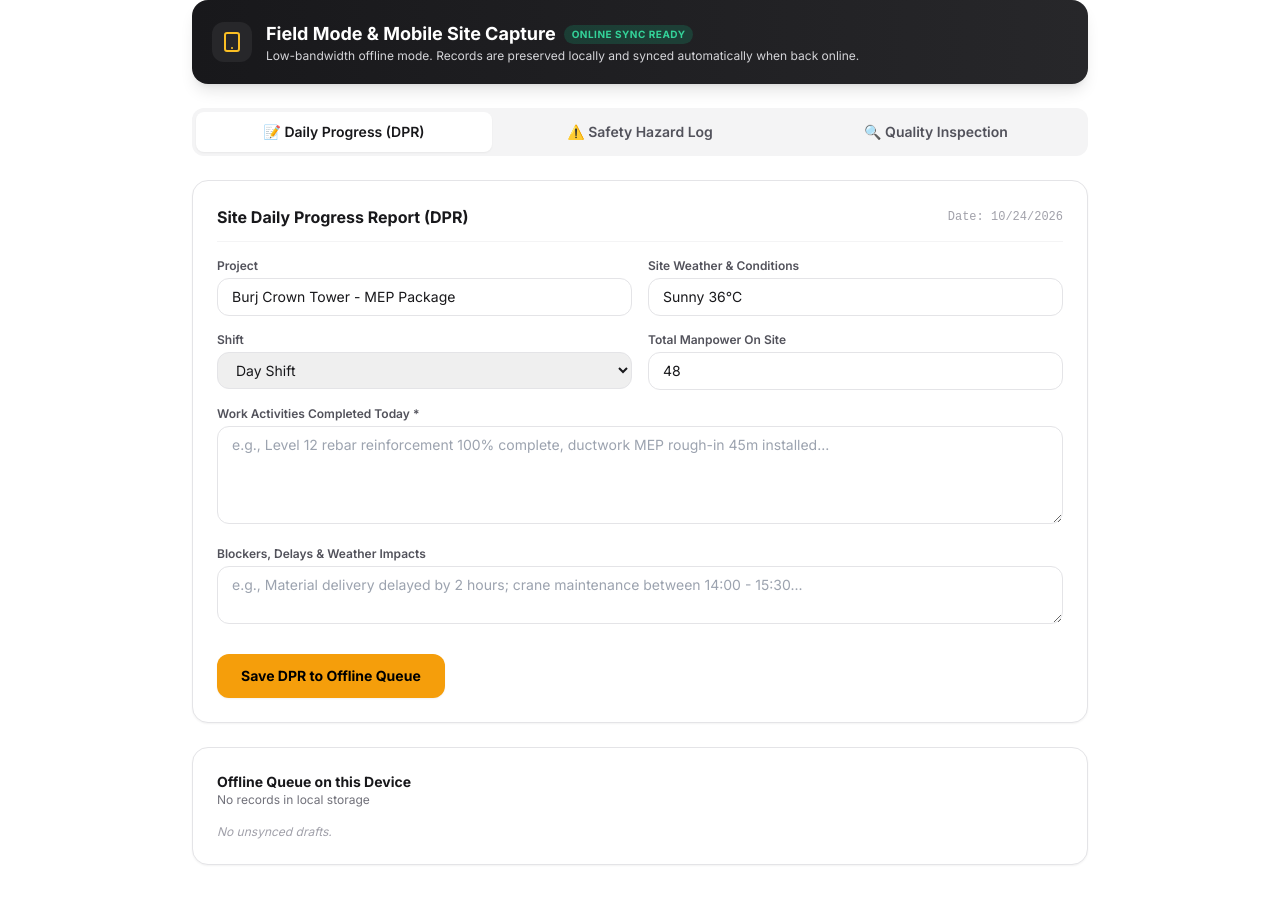
Scenario: Module M37: FieldModePage & Offline Capture UI › switches to Safety Hazard form and saves an observation
Step 1. Click the button "⚠️ Safety Hazard Log" → point(640, 132), box [492,112,788,152]
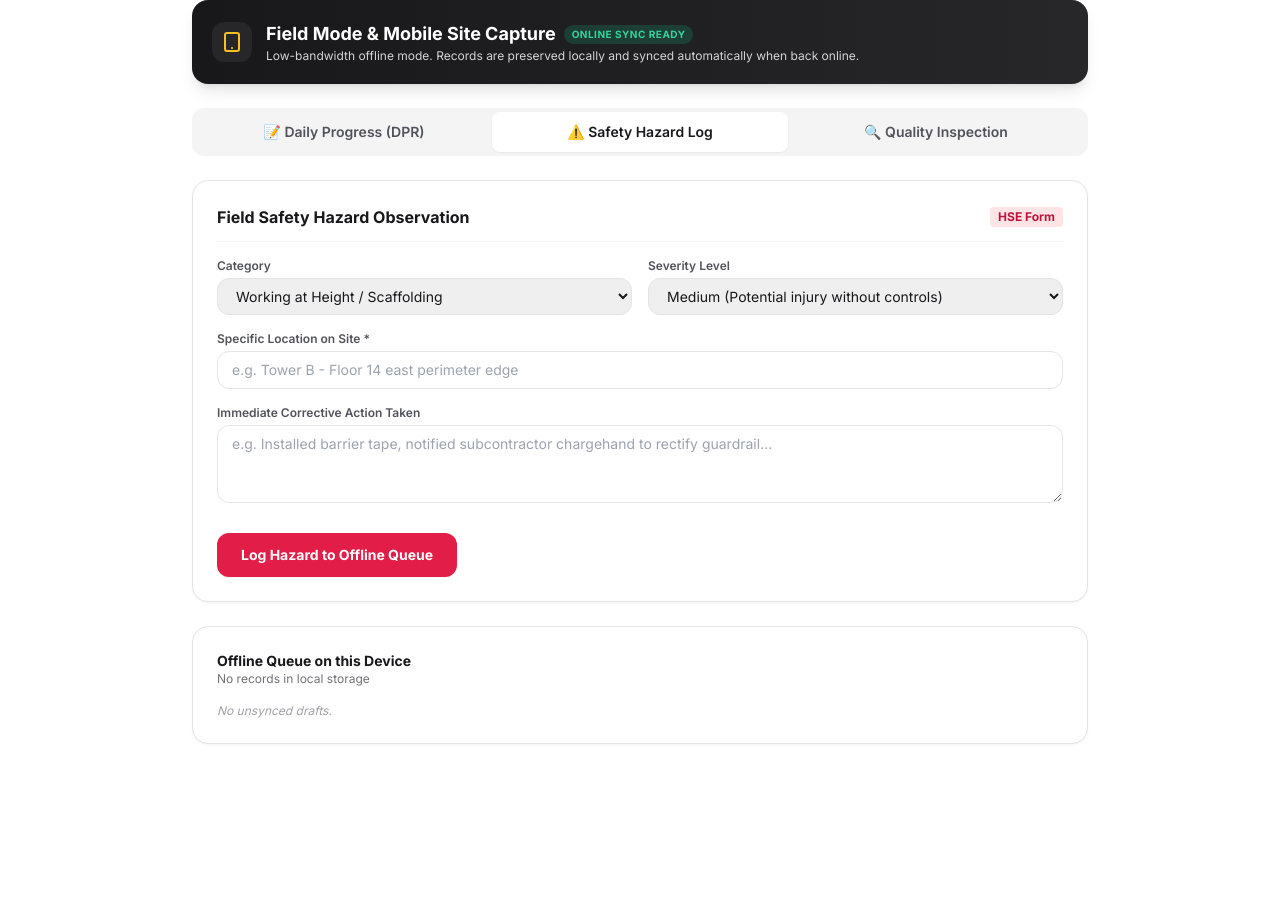
Expected: the heading "Field Safety Hazard Observation" is shown, [217,205,470,229]
Step 2. Type "Shaft A level 4" into the field with placeholder "e.g. Tower B - Floor 14 east perimeter edge" → point(640, 370), box [217,351,1063,389]
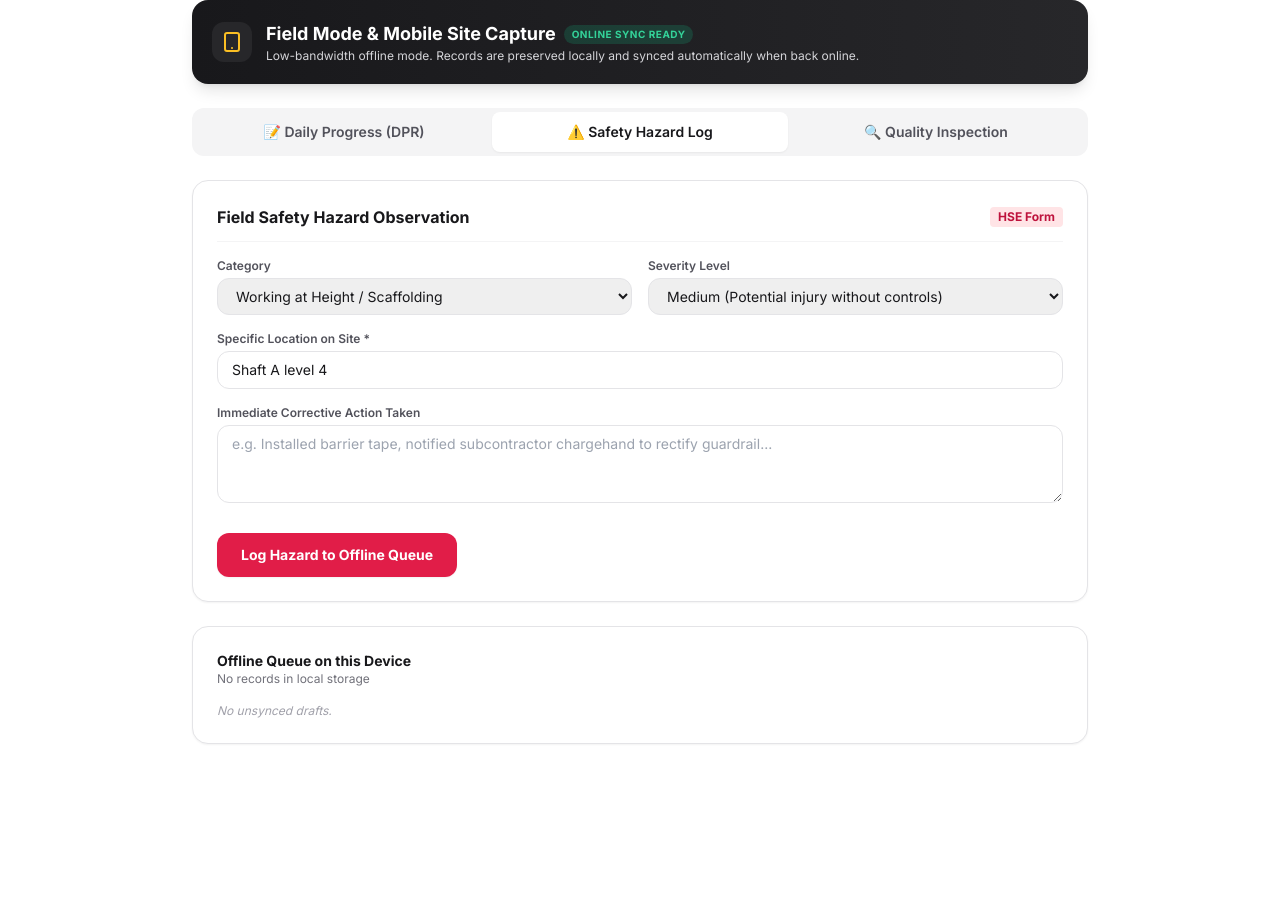
Step 3. Click the button "Log Hazard to Offline Queue" → point(337, 555), box [217,533,457,577]
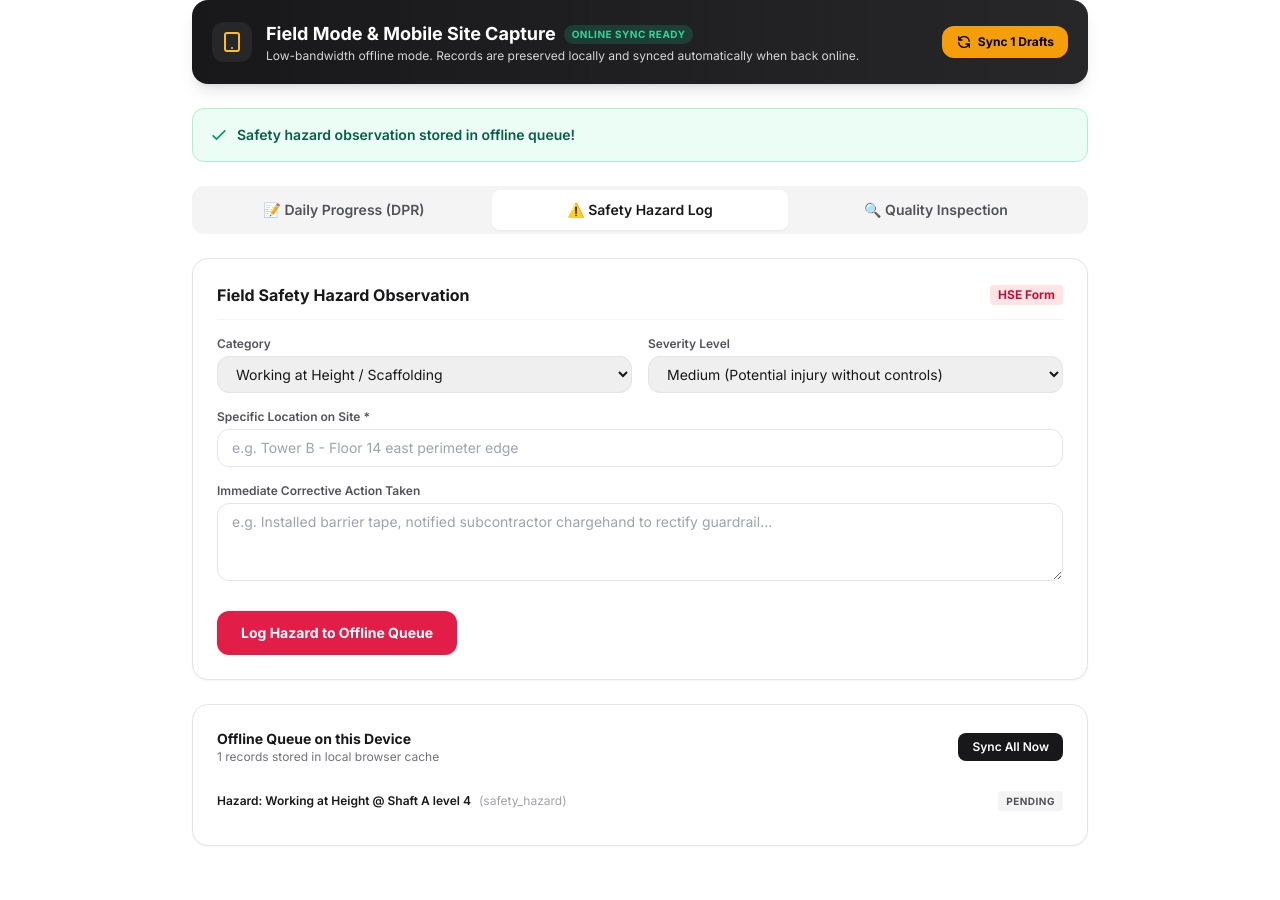
Expected: the text "Safety hazard observation stored in offline queue!" is shown, [192,108,1088,162]
